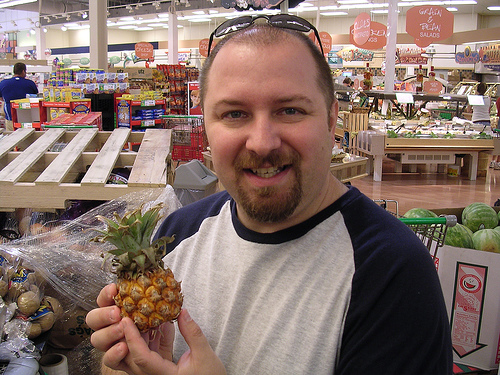pineapple: (92, 202, 184, 332)
